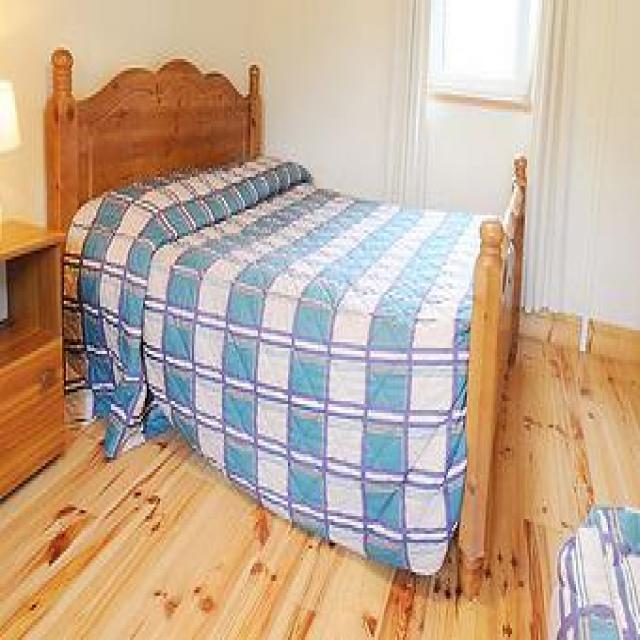bed: (43, 43, 529, 590)
